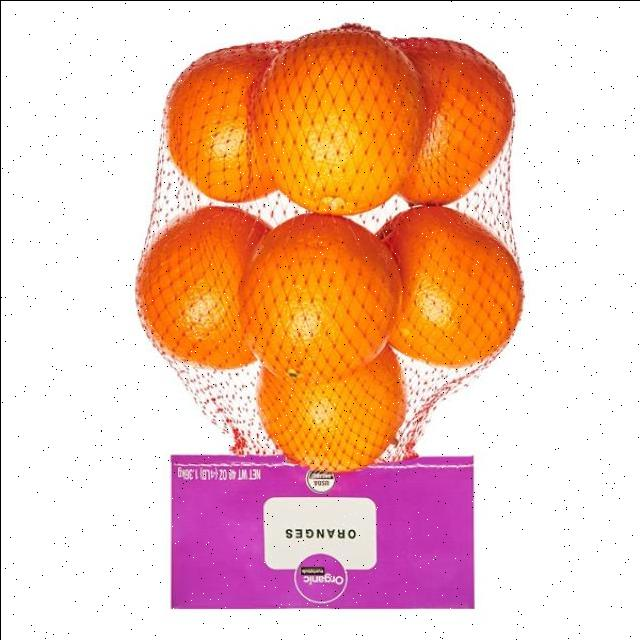Orange: (134, 24, 524, 473), (251, 24, 427, 216), (238, 213, 402, 383), (375, 205, 524, 369), (135, 206, 272, 371), (390, 36, 515, 207), (256, 345, 407, 473), (165, 41, 283, 204)
